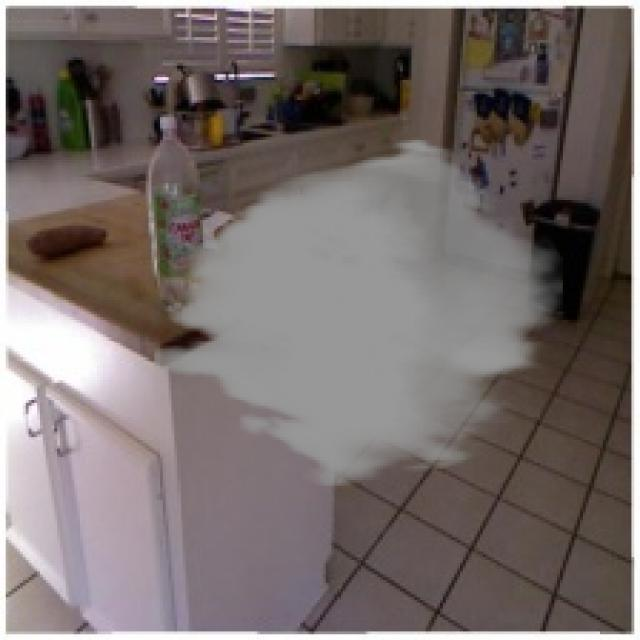Smoke: (154, 137, 563, 489)
